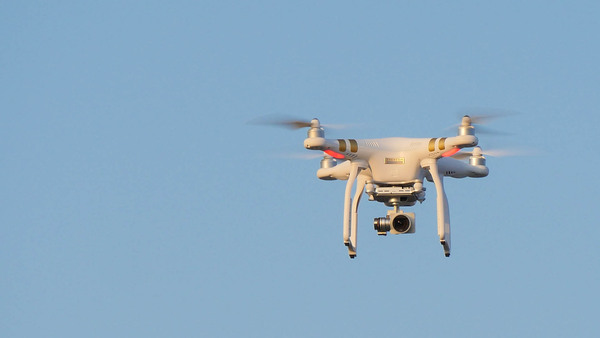drone: (265, 110, 521, 262)
